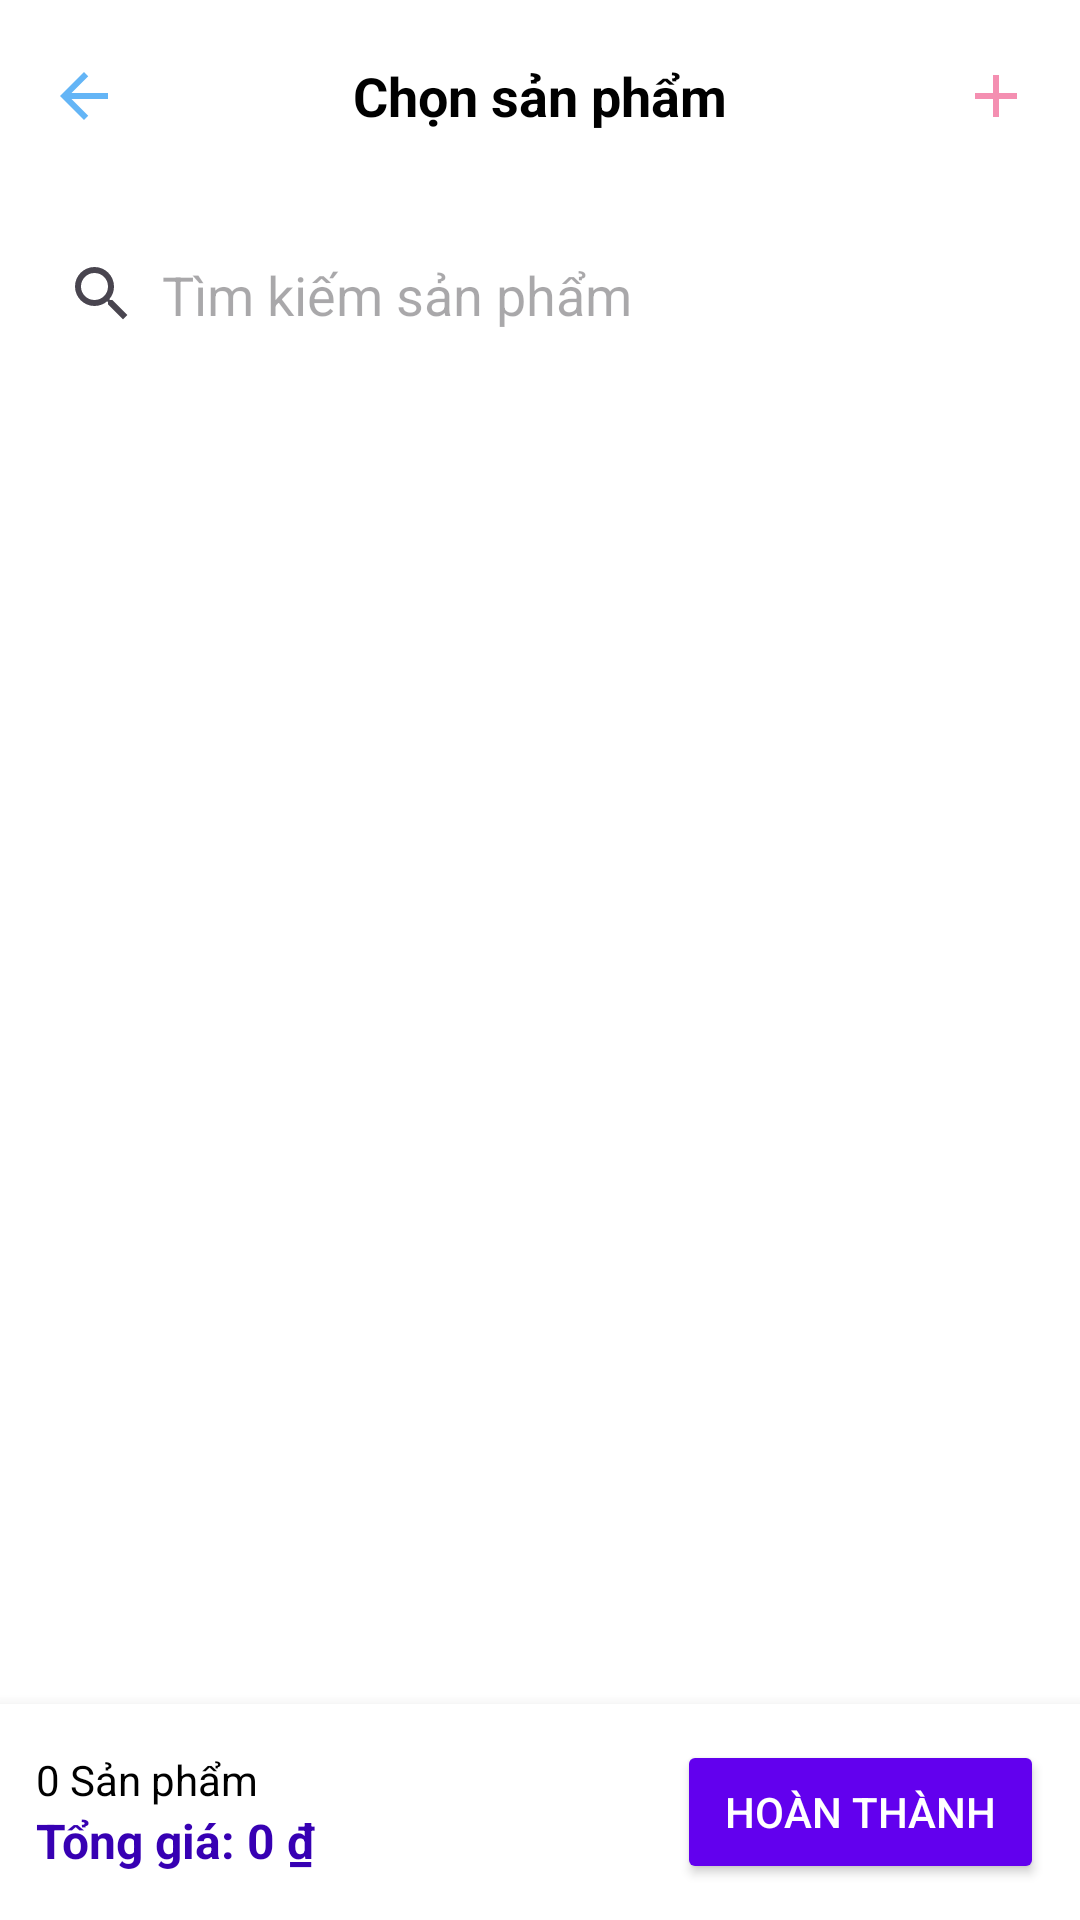

Icons on this 1080px x 1920px Android screen, each with its box as (x1, y1, x2, y2):
back: (60, 72, 108, 120)
plus: (975, 75, 1017, 117)
